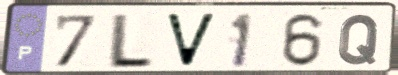1: (228, 11, 254, 69)
6: (277, 11, 326, 69)
7: (52, 13, 101, 70)
L: (103, 11, 157, 70)
Q: (335, 12, 383, 67)
V: (162, 12, 220, 70)
